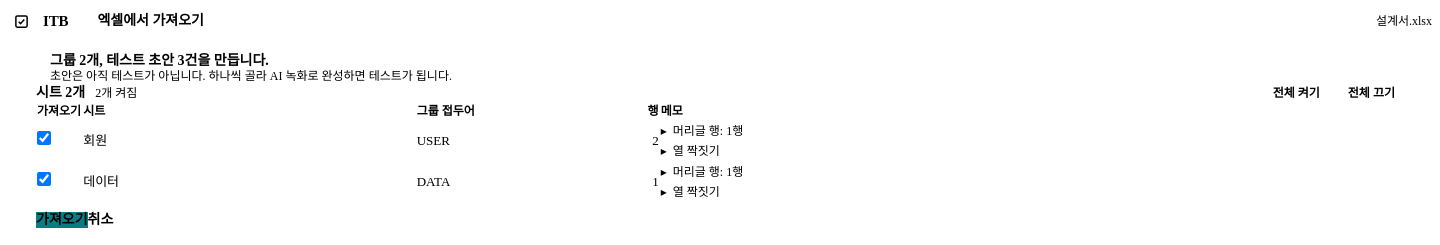
시트 고르기 › 전부 끄면 확정을 막고 이유를 말한다
Click the checkbox named "회원 가져오기" at point(44, 138), box left=37, top=131, right=51, bottom=145
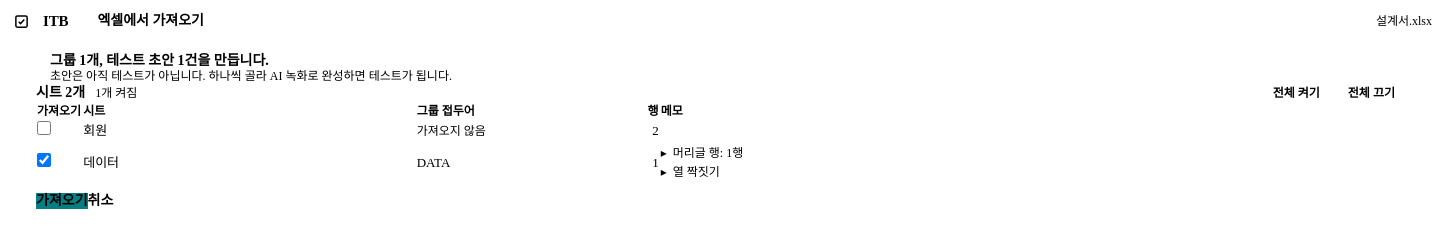
Click the checkbox named "데이터 가져오기" at point(44, 160), box left=37, top=153, right=51, bottom=167
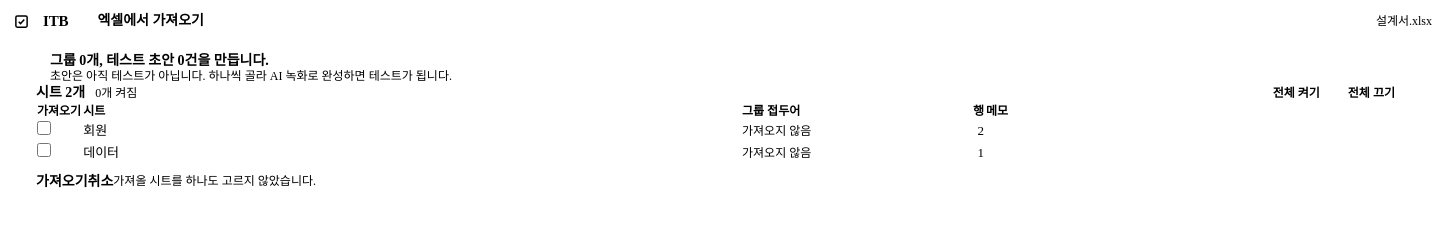
Now the button "가져오기" is disabled, box left=36, top=174, right=88, bottom=190
Now the text "가져올 시트를 하나도 고르지 않았습니다." is shown, box left=113, top=173, right=316, bottom=190
